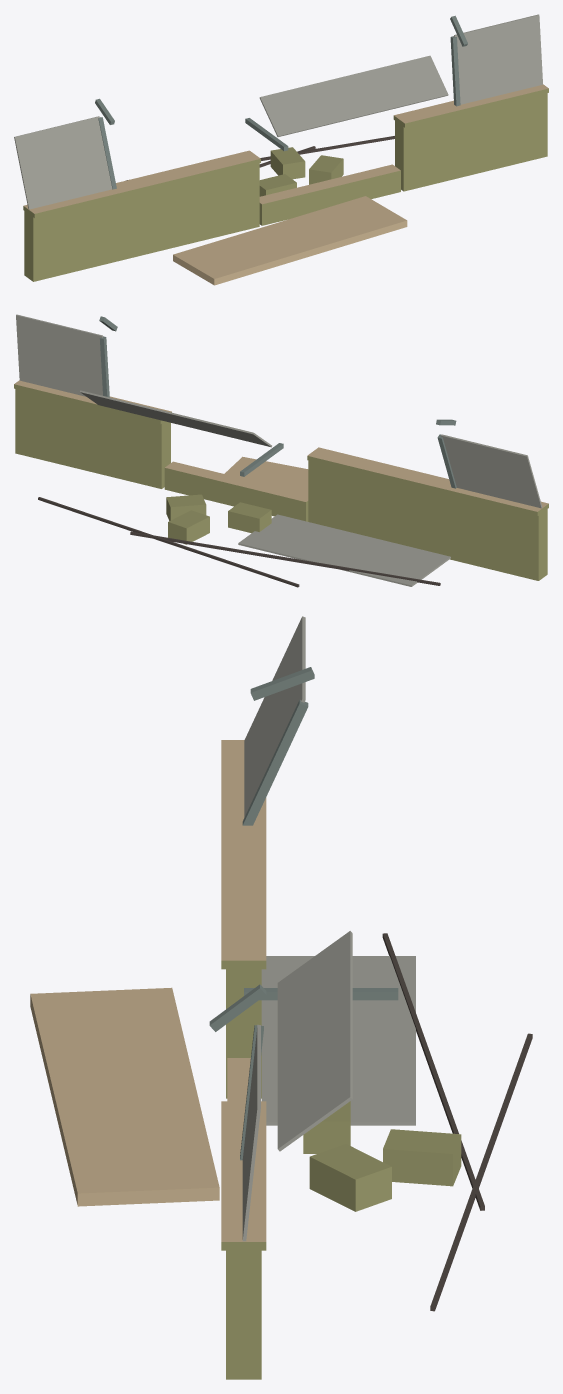
File: SM_VallaBetera_MuroBajo_e3_MuyDanada_LOD0.fbx
3 renders of one model, top to bottom at view 1: azimuth 30°, elevation 25°; view 2: azimuth 150°, elevation 25°; view 3: azimuth 270°, elevation 25°, orthographic. The views are drawn at different scales.
Parts seen in each view (by area): view 1: SM_valla_estados_v8_LOD0; view 2: SM_valla_estados_v8_LOD0; view 3: SM_valla_estados_v8_LOD0.
Part boxes in pixels (x1,y1,x2,y2): SM_valla_estados_v8_LOD0: (14, 14, 548, 285); SM_valla_estados_v8_LOD0: (14, 314, 548, 587); SM_valla_estados_v8_LOD0: (30, 616, 532, 1379).
Bounding box in the file's own units: 10 × 2.88 × 4.23.
